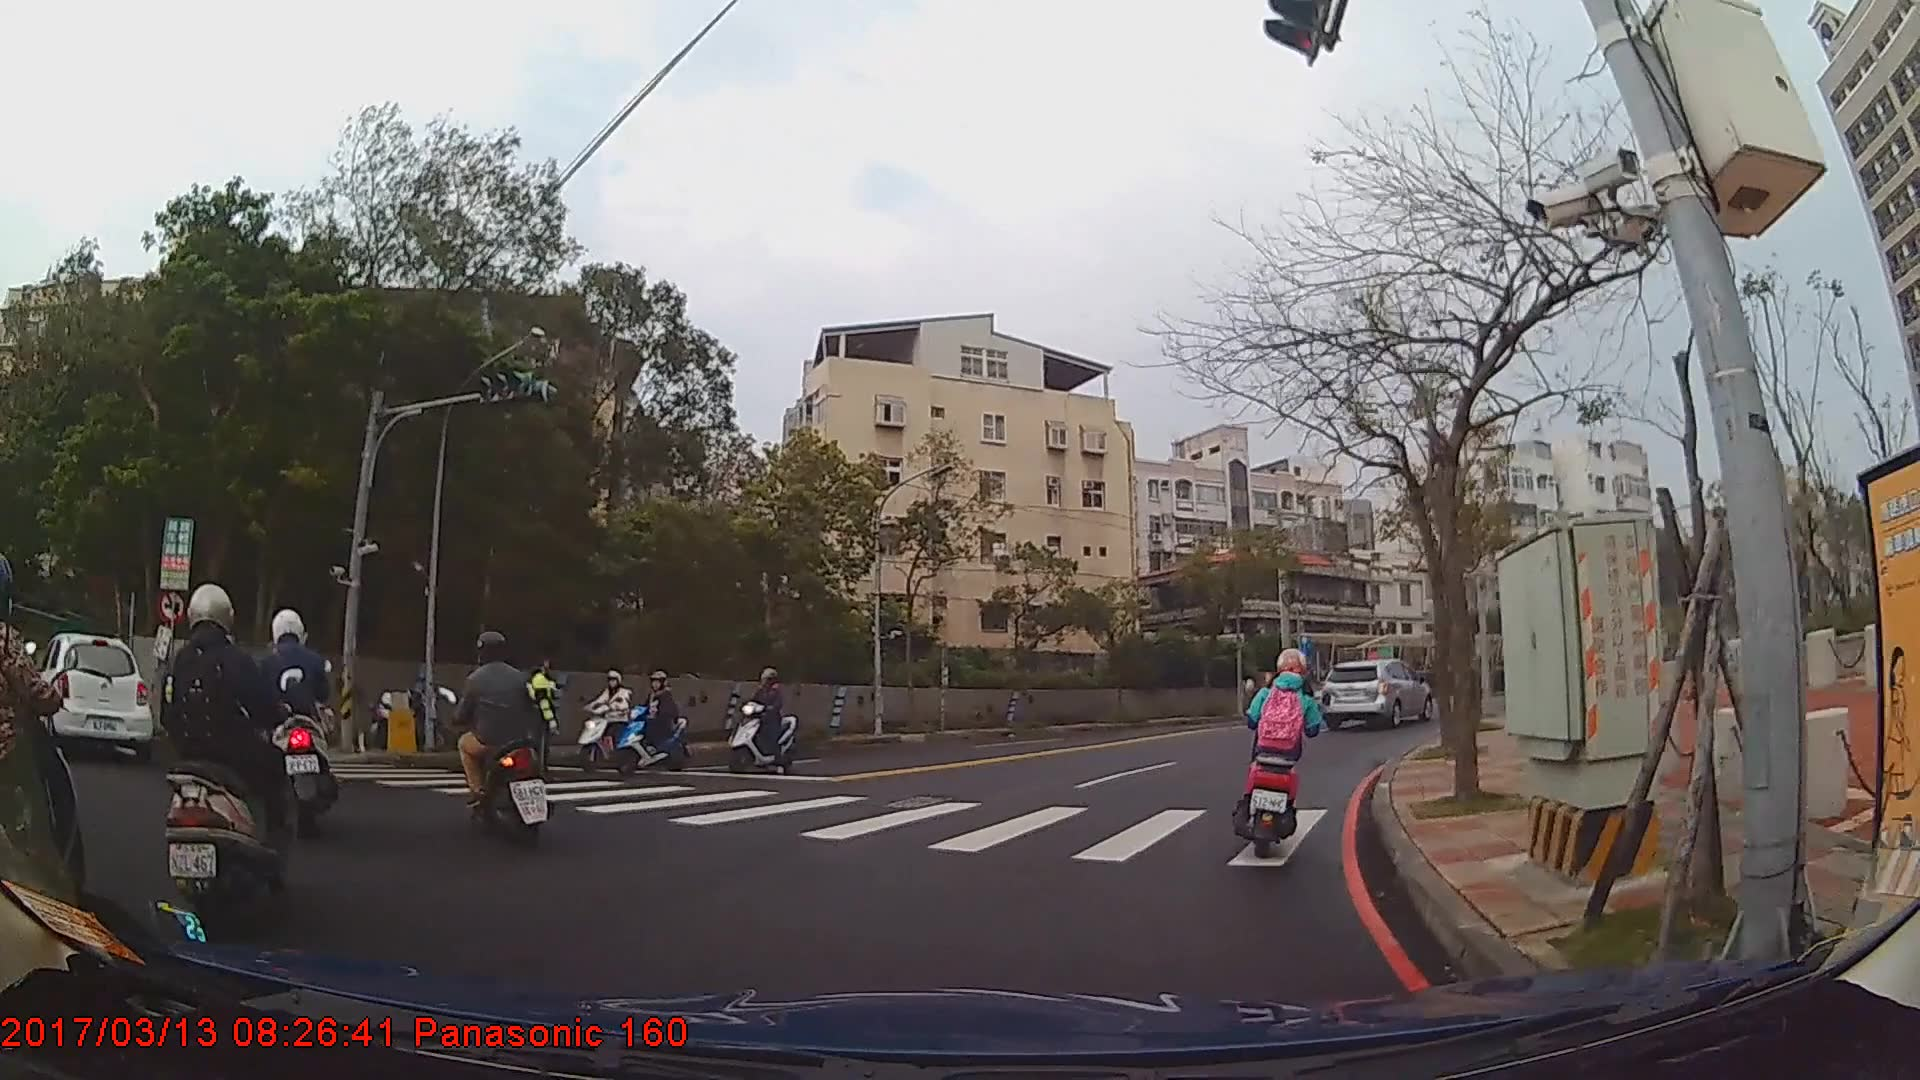rider: (159, 583, 302, 929), (441, 632, 554, 854), (256, 611, 343, 846), (1239, 648, 1325, 851), (726, 671, 798, 776), (616, 672, 687, 776), (578, 674, 642, 770)
vehicle: (29, 632, 151, 755), (1319, 660, 1433, 732)
